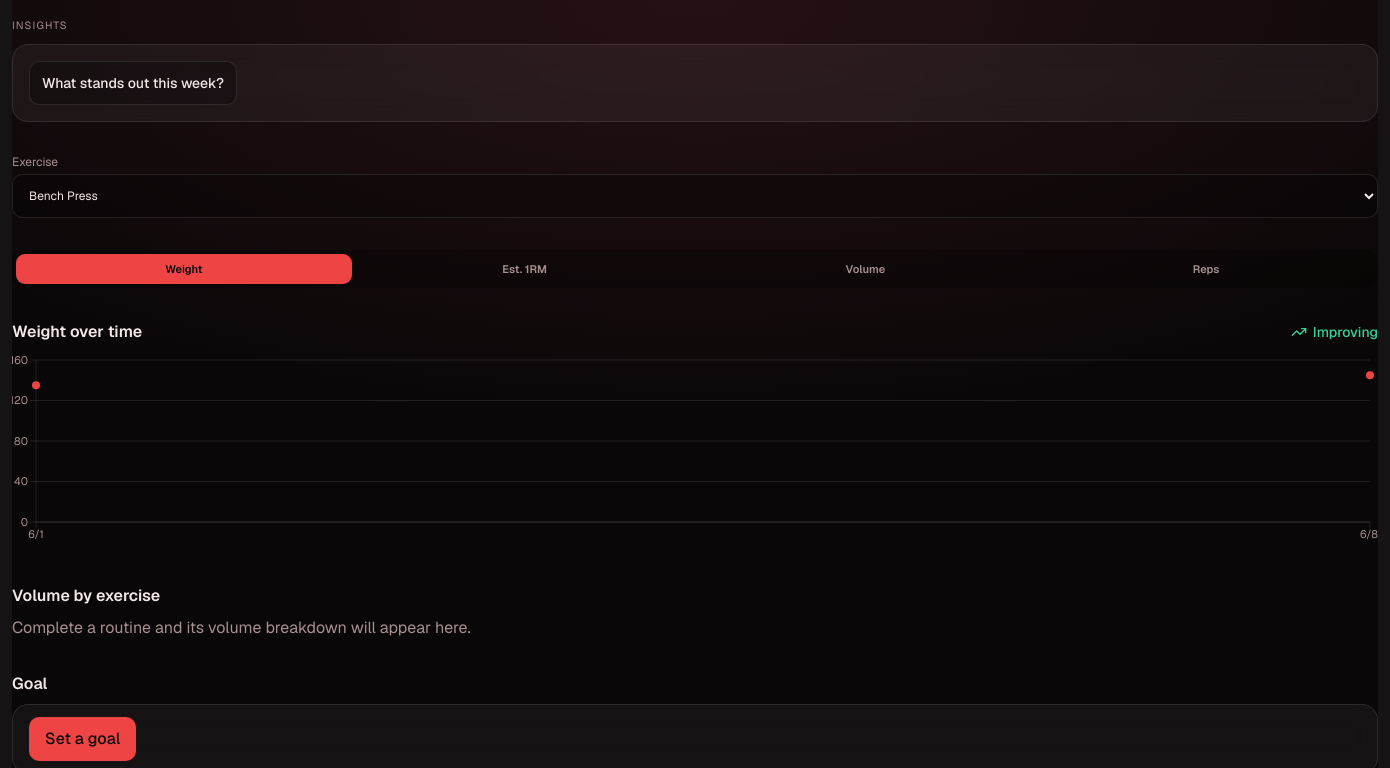
Test: ProgressView metric switcher › switches to the reps chart
This screenshot has width=1390, height=768.
Click the tab "Reps": coordinates (1206, 269) [1038, 254, 1374, 284]
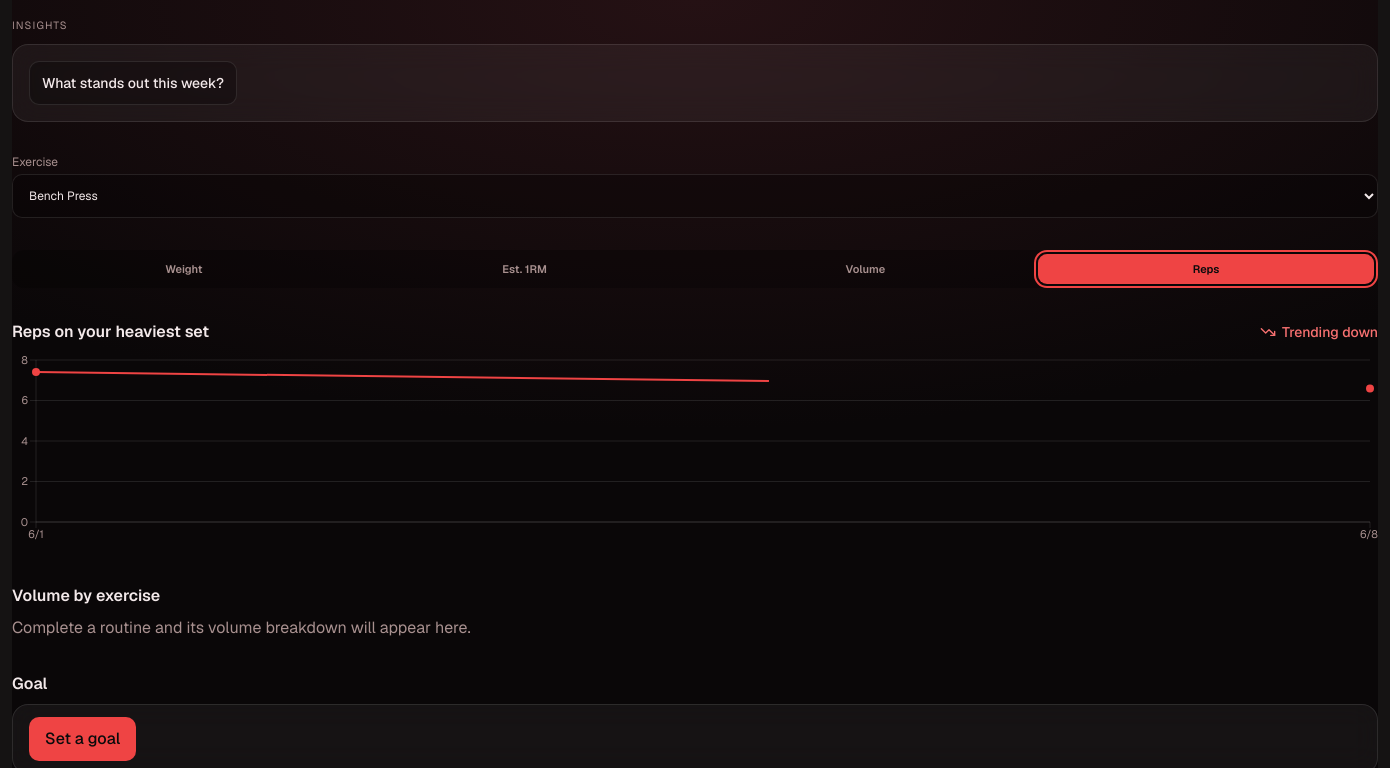
expect the heading "Reps on your heaviest set" is shown: met, box [12, 320, 209, 344]
